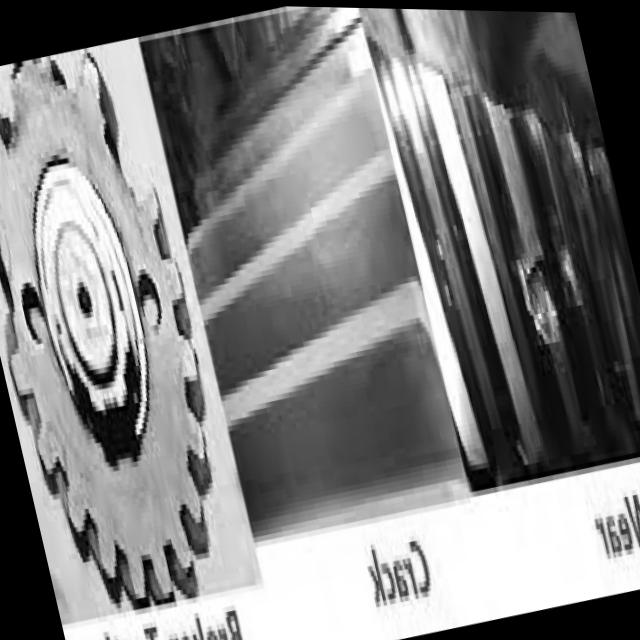Fault-Exist: (0, 44, 256, 628), (416, 148, 640, 465)
